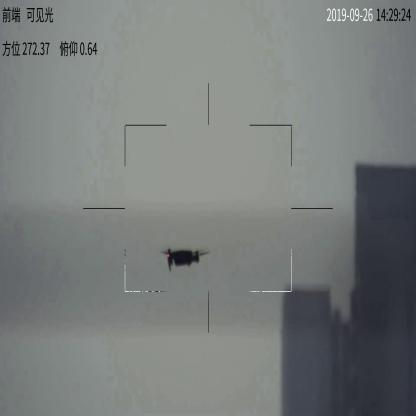uav: (158, 246, 208, 272)
